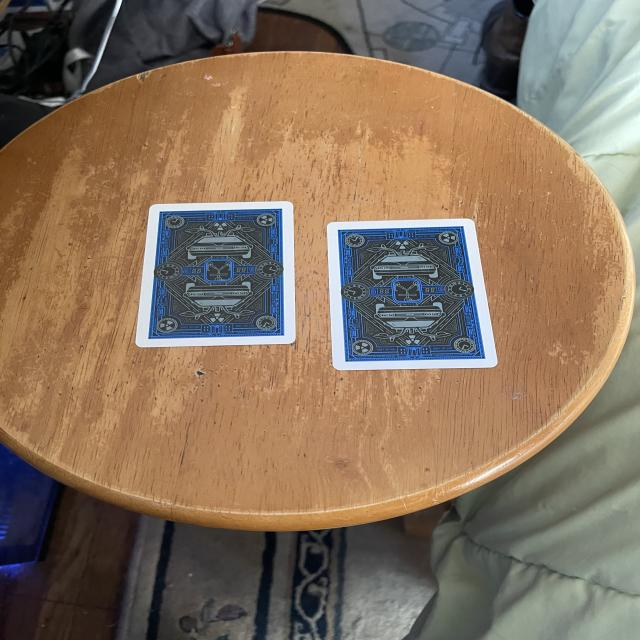card back: (319, 219, 494, 385), (129, 199, 299, 353)
